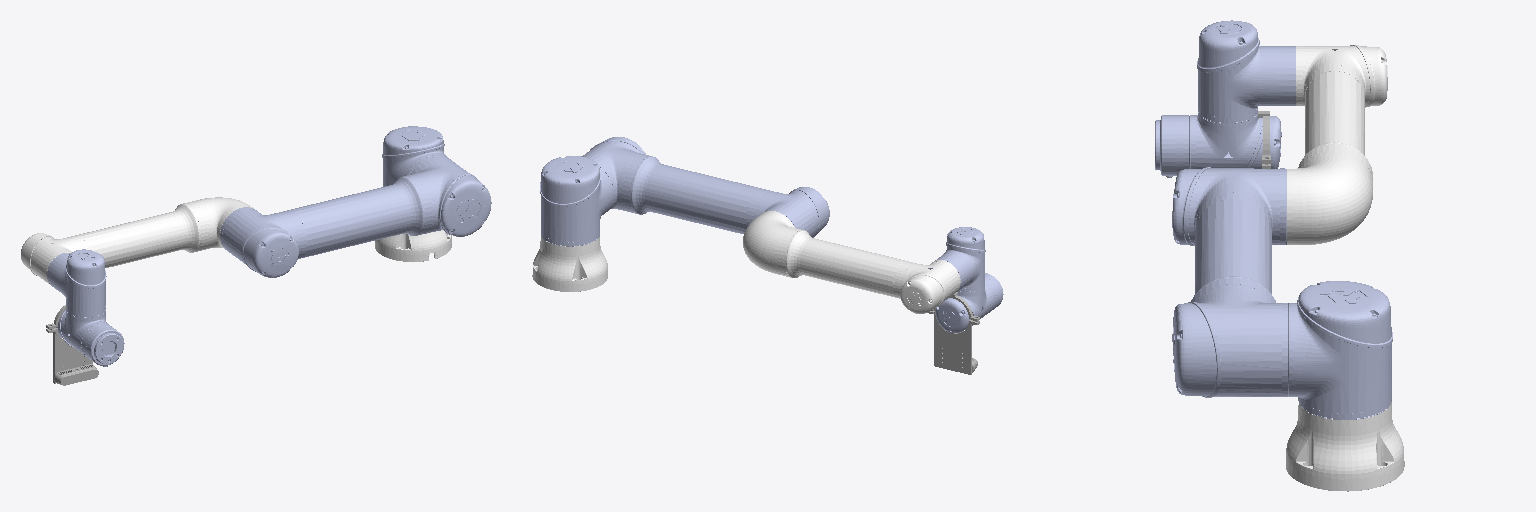
The robot description file, URDF, robot "cs66arm":
<?xml version="1.0" ?>
<!-- =================================================================================== -->
<!-- |    This document was autogenerated by xacro from /home/duefor/climbrobot_mjk/src/robot_simulation/urdf/xacro/cs66arm.xacro | -->
<!-- |    EDITING THIS FILE BY HAND IS NOT RECOMMENDED                                 | -->
<!-- =================================================================================== -->
<!-- This URDF was automatically created by SolidWorks to URDF Exporter! Originally created by Stephen Brawner (brawner@gmail.com) 
     Commit Version: 1.6.0-4-g7f85cfe  Build Version: 1.6.7995.38578
     For more information, please see http://wiki.ros.org/sw_urdf_exporter -->
<robot name="cs66arm">
    <link name="base_footprint" />
    <link name="motion_link">
        <!-- <inertial>
      <origin
        xyz="-0.277999999999999 -1.11022302462516E-16 -0.143999999843703"
        rpy="0 0 0" />
      <mass
        value="0.0912146767448781" />
      <inertia
        ixx="1.5305928704765E-05"
        ixy="-1.90046743487289E-11"
        ixz="-1.05248303611687E-18"
        iyy="0.000102583729682964"
        iyz="-2.77824652651547E-20"
        izz="0.000111808677211264" />
    </inertial> -->
        <visual>
            <origin rpy="0 0 0" xyz="0 0 0" />
            <geometry>
                <mesh filename="package://robot_simulation/meshes/motion_link.STL" />
            </geometry>
            <material name="">
                <color rgba="1 1 1 1" />
            </material>
        </visual>
        <collision>
            <origin rpy="0 0 0" xyz="0 0 0" />
            <geometry>
                <mesh filename="package://robot_simulation/meshes/motion_link.STL" />
            </geometry>
        </collision>
        <inertial>
            <mass value="0.1" />
            <origin xyz="0 0 0" rpy="0 0 0" />
            <inertia ixx="0.03" iyy="0.03" izz="0.03" ixy="0.0" ixz="0.0" iyz="0.0" />
        </inertial>
    </link>
    <joint name="base_link2motion_link" type="fixed">
        <parent link="motion_link" />
        <child link="base_link" />
        <origin rpy="0 0 0" xyz="0 0 0.005" />
    </joint>
    <joint name="motion_link2base_footprint" type="fixed">
        <parent link="base_footprint" />
        <child link="motion_link" />
        <origin rpy="0 0 0" xyz="0 0 0" />
    </joint>
    <link name="base_link">
        <inertial>
            <origin rpy="0 0 0" xyz="-1.41290252924054E-05 -0.000603682298966364 0.0602207037328445" />
            <mass value="0.571272619364651" />
            <inertia ixx="0.00101086034621892" ixy="-7.51470377634442E-08" ixz="-4.56429367850042E-07" iyy="0.00107590370938154" iyz="-1.32176882073438E-05" izz="0.00140801936700209" />
        </inertial>
        <visual>
            <origin rpy="0 0 0" xyz="0 0 0" />
            <geometry>
                <mesh filename="package://robot_simulation/meshes/base_link.STL" />
            </geometry>
            <material name="">
                <color rgba="1 1 1 1" />
            </material>
        </visual>
        <collision>
            <origin rpy="0 0 0" xyz="0 0 0" />
            <geometry>
                <mesh filename="package://robot_simulation/meshes/base_link.STL" />
            </geometry>
        </collision>
    </link>
    <link name="link_1">
        <inertial>
            <origin rpy="0 0 0" xyz="4.50194937730372E-06 0.00773427703847446 0.000904396689981518" />
            <mass value="1.79913646566189" />
            <inertia ixx="0.0035369407153648" ixy="-1.3494574389081E-07" ixz="-1.37348778237859E-07" iyy="0.00328732359650795" iyz="-0.000420356483109151" izz="0.00355851737864566" />
        </inertial>
        <visual>
            <origin rpy="0 0 0" xyz="0 0 0" />
            <geometry>
                <mesh filename="package://robot_simulation/meshes/link_1.STL" />
            </geometry>
            <material name="">
                <color rgba="0.792156862745098 0.819607843137255 0.933333333333333 1" />
            </material>
        </visual>
        <collision>
            <origin rpy="0 0 0" xyz="0 0 0" />
            <geometry>
                <mesh filename="package://robot_simulation/meshes/link_1.STL" />
            </geometry>
        </collision>
    </link>
    <joint name="joint_1" type="revolute">
        <origin rpy="0 0 3.1416" xyz="0 0 0.1625" />
        <parent link="base_link" />
        <child link="link_1" />
        <axis xyz="0 0 1" />
        <limit effort="100" lower="-6.2832" upper="6.2832" velocity="2" />
    </joint>
    <link name="link_2">
        <inertial>
            <origin rpy="0 0 0" xyz="-7.30401232662548E-07 -0.00566117865527399 0.18919662525779" />
            <mass value="5.27134054466904" />
            <inertia ixx="0.0240356173866705" ixy="8.95647270165234E-08" ixz="1.57696803368867E-07" iyy="0.0238605037936564" iyz="-0.000220476080251947" izz="0.00780270583308199" />
        </inertial>
        <visual>
            <origin rpy="0 0 0" xyz="0 0 0" />
            <geometry>
                <mesh filename="package://robot_simulation/meshes/link_2.STL" />
            </geometry>
            <material name="">
                <color rgba="0.792156862745098 0.819607843137255 0.933333333333333 1" />
            </material>
        </visual>
        <collision>
            <origin rpy="0 0 0" xyz="0 0 0" />
            <geometry>
                <mesh filename="package://robot_simulation/meshes/link_2.STL" />
            </geometry>
        </collision>
    </link>
    <joint name="joint_2" type="revolute">
        <origin rpy="0 1.5708 0" xyz="0 0.1475 0" />
        <parent link="link_1" />
        <child link="link_2" />
        <axis xyz="0 1 0" />
        <limit effort="100" lower="-6.2832" upper="6.2832" velocity="2" />
    </joint>
    <link name="link_3">
        <inertial>
            <origin rpy="0 0 0" xyz="-3.25797285605223E-06 0.0154517646060705 0.182811418535212" />
            <mass value="2.7304484715226" />
            <inertia ixx="0.0105662376475632" ixy="-1.08380704856263E-07" ixz="-4.34825967600042E-08" iyy="0.0104071954547769" iyz="0.000143987328156967" izz="0.00260693182364088" />
        </inertial>
        <visual>
            <origin rpy="0 0 0" xyz="0 0 0" />
            <geometry>
                <mesh filename="package://robot_simulation/meshes/link_3.STL" />
            </geometry>
            <material name="">
                <color rgba="1 1 1 1" />
            </material>
        </visual>
        <collision>
            <origin rpy="0 0 0" xyz="0 0 0" />
            <geometry>
                <mesh filename="package://robot_simulation/meshes/link_3.STL" />
            </geometry>
        </collision>
    </link>
    <joint name="joint_3" type="revolute">
        <origin rpy="0 0 0" xyz="0 -0.1475 0.427" />
        <parent link="link_2" />
        <child link="link_3" />
        <axis xyz="0 1 0" />
        <limit effort="100" lower="-3.1416" upper="3.1416" velocity="2" />
    </joint>
    <link name="link_4">
        <inertial>
            <origin rpy="0 0 0" xyz="2.64090718871124E-06 0.128453183064255 -0.00471201100694207" />
            <mass value="0.753078864390779" />
            <inertia ixx="0.00101945642283869" ixy="-2.9710555799713E-09" ixz="1.25455524314993E-08" iyy="0.000594720092473598" iyz="-0.000108276134027724" izz="0.000986591341702162" />
        </inertial>
        <visual>
            <origin rpy="0 0 0" xyz="0 0 0" />
            <geometry>
                <mesh filename="package://robot_simulation/meshes/link_4.STL" />
            </geometry>
            <material name="">
                <color rgba="0.792156862745098 0.819607843137255 0.933333333333333 1" />
            </material>
        </visual>
        <collision>
            <origin rpy="0 0 0" xyz="0 0 0" />
            <geometry>
                <mesh filename="package://robot_simulation/meshes/link_4.STL" />
            </geometry>
        </collision>
    </link>
    <joint name="joint_4" type="revolute">
        <origin rpy="0 1.5708 0" xyz="0 0 0.3905" />
        <parent link="link_3" />
        <child link="link_4" />
        <axis xyz="0 1 0" />
        <limit effort="100" lower="-6.2832" upper="6.2832" velocity="2" />
    </joint>
    <link name="link_5">
        <inertial>
            <origin rpy="0 0 0" xyz="-3.52151440741189E-06 -0.00611102540738798 0.0915405791556965" />
            <mass value="0.580697786383365" />
            <inertia ixx="0.000505896667937189" ixy="-9.3187694684982E-09" ixz="2.8124338884643E-09" iyy="0.000479397457977078" iyz="-5.63283557623451E-05" izz="0.000463900738983893" />
        </inertial>
        <visual>
            <origin rpy="0 0 0" xyz="0 0 0" />
            <geometry>
                <mesh filename="package://robot_simulation/meshes/link_5.STL" />
            </geometry>
            <material name="">
                <color rgba="0.792156862745098 0.819607843137255 0.933333333333333 1" />
            </material>
        </visual>
        <collision>
            <origin rpy="0 0 0" xyz="0 0 0" />
            <geometry>
                <mesh filename="package://robot_simulation/meshes/link_5.STL" />
            </geometry>
        </collision>
    </link>
    <joint name="joint_5" type="revolute">
        <origin rpy="0 0 0" xyz="0 0.1475 0" />
        <parent link="link_4" />
        <child link="link_5" />
        <axis xyz="0 0 1" />
        <limit effort="100" lower="-6.2832" upper="6.2832" velocity="2" />
    </joint>
    <link name="link_6">
        <inertial>
            <origin rpy="0 0 0" xyz="1.77066361572997E-10 0.0688932547128143 -0.000150247580254018" />
            <mass value="0.17860632144132" />
            <inertia ixx="8.65449825269025E-05" ixy="-6.43886306161229E-13" ixz="-8.18312128726338E-13" iyy="0.000125967961533979" iyz="3.25478532084584E-07" izz="8.80945714473335E-05" />
        </inertial>
        <visual>
            <origin rpy="0 0 0" xyz="0 0 0" />
            <geometry>
                <mesh filename="package://robot_simulation/meshes/link_6.STL" />
            </geometry>
            <material name="">
                <color rgba="0.792156862745098 0.819607843137255 0.933333333333333 1" />
            </material>
        </visual>
        <collision>
            <origin rpy="0 0 0" xyz="0 0 0" />
            <geometry>
                <mesh filename="package://robot_simulation/meshes/link_6.STL" />
            </geometry>
        </collision>
    </link>
    <joint name="joint_6" type="revolute">
        <origin rpy="0 0 0" xyz="0 0 0.0965" />
        <parent link="link_5" />
        <child link="link_6" />
        <axis xyz="0 1 0" />
        <limit effort="100" lower="-6.2832" upper="6.2832" velocity="2" />
    </joint>
    <link name="ee_link">
        <inertial>
            <origin rpy="0 0 0" xyz="-0.00312206153819528 0.00411521401049743 -0.00520000000000007" />
            <mass value="4.18879020478639E-06" />
            <inertia ixx="1.67551608191456E-12" ixy="7.96545955566226E-59" ixz="0" iyy="1.67551608191456E-12" iyz="0" izz="1.67551608191456E-12" />
        </inertial>
        <visual>
            <origin rpy="0 0 0" xyz="0 0 0" />
            <geometry>
                <mesh filename="package://robot_simulation/meshes/ee_link.STL" />
            </geometry>
            <material name="">
                <color rgba="1 1 1 1" />
            </material>
        </visual>
        <collision>
            <origin rpy="0 0 0" xyz="0 0 0" />
            <geometry>
                <mesh filename="package://robot_simulation/meshes/ee_link.STL" />
            </geometry>
        </collision>
    </link>
    <joint name="ee_joint" type="fixed">
        <origin rpy="-1.5708 0 0" xyz="0 0.092 0" />
        <parent link="link_6" />
        <child link="ee_link" />
        <axis xyz="0 0 0" />
    </joint>
    <link name="link_cam">
        <inertial>
            <origin rpy="0 0 0" xyz="-7.53846738432706E-06 -0.0892438670479978 0.00748972561018527" />
            <mass value="0.161265558826912" />
            <inertia ixx="5.58651413269926E-05" ixy="2.48245268496394E-10" ixz="1.78474723509125E-08" iyy="0.000112643639455788" iyz="-2.22471726109021E-06" izz="0.000157804078924145" />
        </inertial>
        <visual>
            <origin rpy="0 0 0" xyz="0 0 0" />
            <geometry>
                <mesh filename="package://robot_simulation/meshes/link_cam.STL" />
            </geometry>
            <material name="">
                <color rgba="0.752941176470588 0.752941176470588 0.752941176470588 1" />
            </material>
        </visual>
        <collision>
            <origin rpy="0 0 0" xyz="0 0 0" />
            <geometry>
                <mesh filename="package://robot_simulation/meshes/link_cam.STL" />
            </geometry>
        </collision>
    </link>
    <joint name="joint_cam" type="fixed">
        <origin rpy="-1.5708 0 0" xyz="0 -0.0474 0.0965" />
        <parent link="link_5" />
        <child link="link_cam" />
        <axis xyz="0 0 0" />
    </joint>
    <transmission name="trans_joint_1">
        <type>transmission_interface/SimpleTransmission</type>
        <joint name="joint_1">
            <hardwareInterface>hardware_interface/EffortJointInterface</hardwareInterface>
        </joint>
        <actuator name="joint_1_motor">
            <hardwareInterface>hardware_interface/EffortJointInterface</hardwareInterface>
            <mechanicalReduction>1</mechanicalReduction>
        </actuator>
    </transmission>
    <transmission name="trans_joint_2">
        <type>transmission_interface/SimpleTransmission</type>
        <joint name="joint_2">
            <hardwareInterface>hardware_interface/EffortJointInterface</hardwareInterface>
        </joint>
        <actuator name="joint_2_motor">
            <hardwareInterface>hardware_interface/EffortJointInterface</hardwareInterface>
            <mechanicalReduction>1</mechanicalReduction>
        </actuator>
    </transmission>
    <transmission name="trans_joint_3">
        <type>transmission_interface/SimpleTransmission</type>
        <joint name="joint_3">
            <hardwareInterface>hardware_interface/EffortJointInterface</hardwareInterface>
        </joint>
        <actuator name="joint_3_motor">
            <hardwareInterface>hardware_interface/EffortJointInterface</hardwareInterface>
            <mechanicalReduction>1</mechanicalReduction>
        </actuator>
    </transmission>
    <transmission name="trans_joint_4">
        <type>transmission_interface/SimpleTransmission</type>
        <joint name="joint_4">
            <hardwareInterface>hardware_interface/EffortJointInterface</hardwareInterface>
        </joint>
        <actuator name="joint_4_motor">
            <hardwareInterface>hardware_interface/EffortJointInterface</hardwareInterface>
            <mechanicalReduction>1</mechanicalReduction>
        </actuator>
    </transmission>
    <transmission name="trans_joint_5">
        <type>transmission_interface/SimpleTransmission</type>
        <joint name="joint_5">
            <hardwareInterface>hardware_interface/EffortJointInterface</hardwareInterface>
        </joint>
        <actuator name="joint_5_motor">
            <hardwareInterface>hardware_interface/EffortJointInterface</hardwareInterface>
            <mechanicalReduction>1</mechanicalReduction>
        </actuator>
    </transmission>
    <transmission name="trans_joint_6">
        <type>transmission_interface/SimpleTransmission</type>
        <joint name="joint_6">
            <hardwareInterface>hardware_interface/EffortJointInterface</hardwareInterface>
        </joint>
        <actuator name="joint_6_motor">
            <hardwareInterface>hardware_interface/EffortJointInterface</hardwareInterface>
            <mechanicalReduction>1</mechanicalReduction>
        </actuator>
    </transmission>
    <gazebo>
        <plugin name="gazebo_ros_control" filename="libgazebo_ros_control.so">
            <robotNamespace>/</robotNamespace>
        </plugin>
    </gazebo>
</robot>

--- Facts derived from the render (not from the file) ---
Views: 3 orthographic renders of the robot side by side, from view 1: azimuth 30°, elevation 25°; view 2: azimuth 150°, elevation 25°; view 3: azimuth 270°, elevation 25°.
Model cs66arm with 11 links and 10 joints (6 revolute, 4 fixed), rooted at base_footprint, posed all joints at 0.
Visible links, largest first — view 1: link_2, link_3, link_4, link_1, base_link, link_cam, link_6, link_5; view 2: link_2, link_3, link_1, base_link, link_4, link_cam, link_5; view 3: link_2, link_3, link_1, link_4, base_link, link_5, link_6.
Boxes of the visible links, x1,y1,x2,y2 form: link_2: (220,155,491,277); link_3: (21,197,253,283); link_4: (47,249,106,317); link_1: (382,126,446,186); base_link: (375,230,451,261); link_cam: (46,305,98,385); link_6: (82,323,124,366); link_5: (56,306,107,354); link_2: (582,137,829,237); link_3: (743,211,960,313); link_1: (540,156,613,246); base_link: (532,237,607,291); link_4: (929,227,985,291); link_cam: (928,292,979,374); link_5: (935,283,994,332); link_2: (1172,167,1288,397); link_3: (1287,45,1387,244); link_1: (1289,281,1392,419); link_4: (1197,20,1295,123); base_link: (1286,402,1404,491); link_5: (1189,112,1281,168); link_6: (1155,115,1188,177).
Bounding box of the posed robot: 0.9504 × 0.3145 × 0.2937 m (x, y, z).
9 mesh visuals loaded from 10 distinct referenced files (9 binary STL); not drawn: 1 (reference not matched to a file when rendering).
